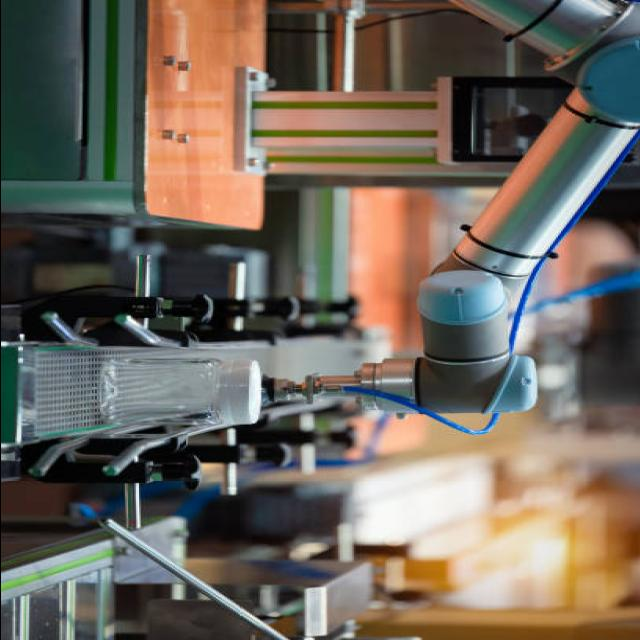Robotic-arm: (276, 0, 640, 419)
